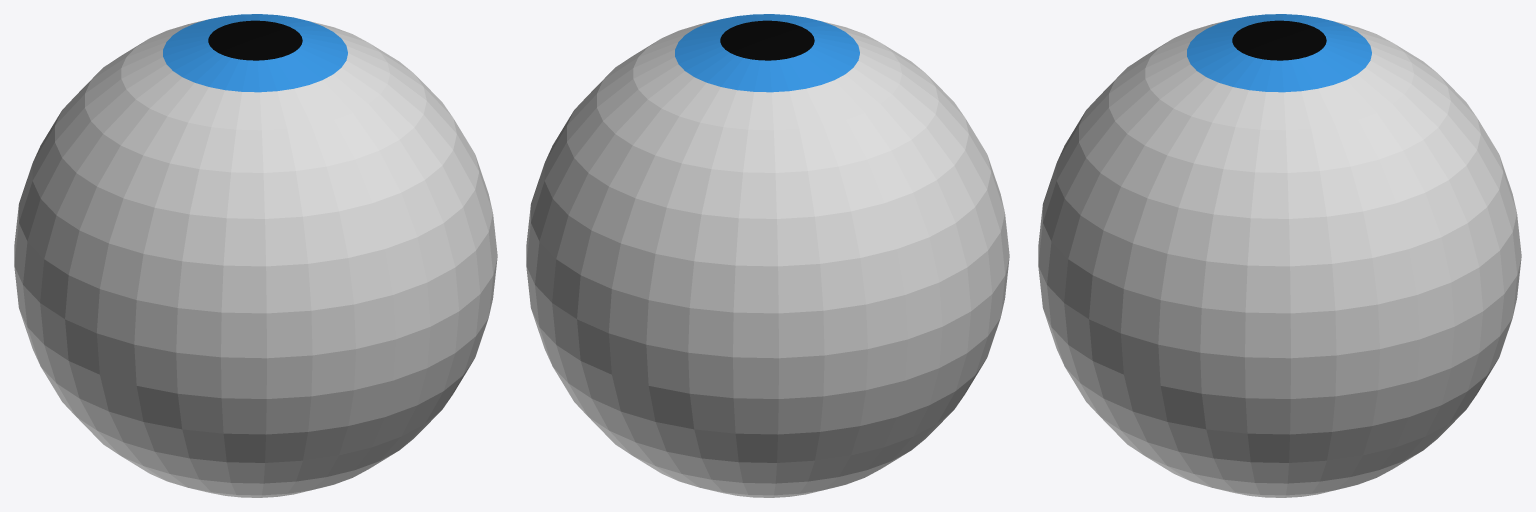
Rendered from eye_v1.fbx.
3 renders of one model, left to right at view 1: azimuth 30°, elevation 25°; view 2: azimuth 150°, elevation 25°; view 3: azimuth 270°, elevation 25°, orthographic.
Visible parts, largest first — view 1: Sphere, Sphere.001, Sphere.002; view 2: Sphere, Sphere.001, Sphere.002; view 3: Sphere, Sphere.001, Sphere.002.
Part boxes in pixels (<box>): Sphere: <box>14,19,497,497</box>; Sphere.001: <box>163,14,347,92</box>; Sphere.002: <box>208,20,302,60</box>; Sphere: <box>526,19,1009,497</box>; Sphere.001: <box>675,14,859,92</box>; Sphere.002: <box>720,20,814,60</box>; Sphere: <box>1038,19,1521,497</box>; Sphere.001: <box>1187,14,1371,92</box>; Sphere.002: <box>1232,20,1326,60</box>.
Bounding box in the file's own units: 200 × 199 × 200.
